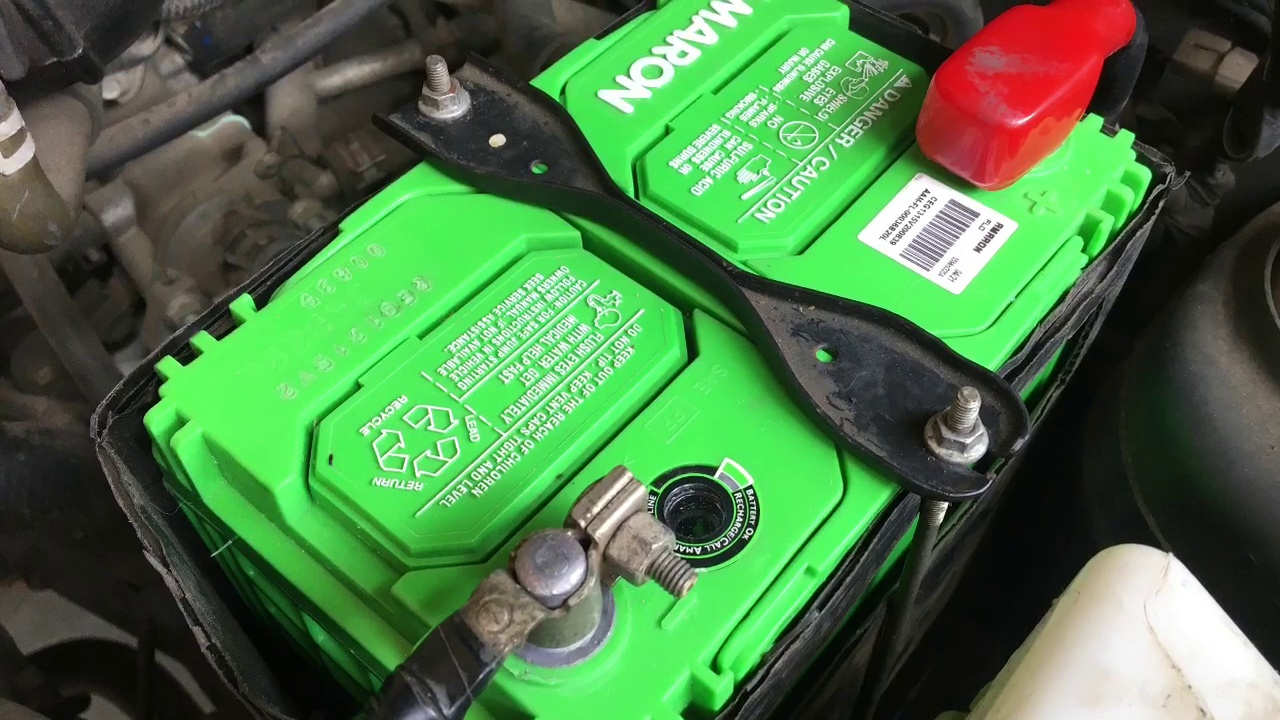battery: (209, 5, 1134, 714)
neg_connected: (365, 470, 717, 684)
pos_connected: (888, 10, 1131, 209)
